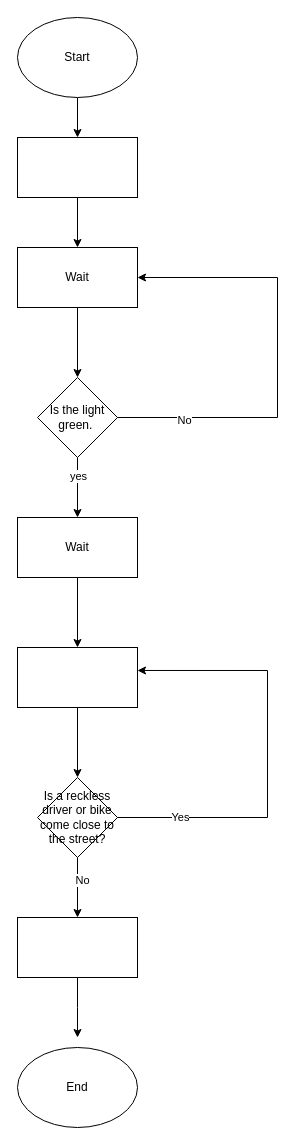
Image size: 303x1145. Some labels were removed from this diagram. Each missing label, with the centre of its shape:
Cross the street: (77,947)
Look both ways: (77,677)
Walk close to the edge of the sidewalk in-front of the street: (77,167)
